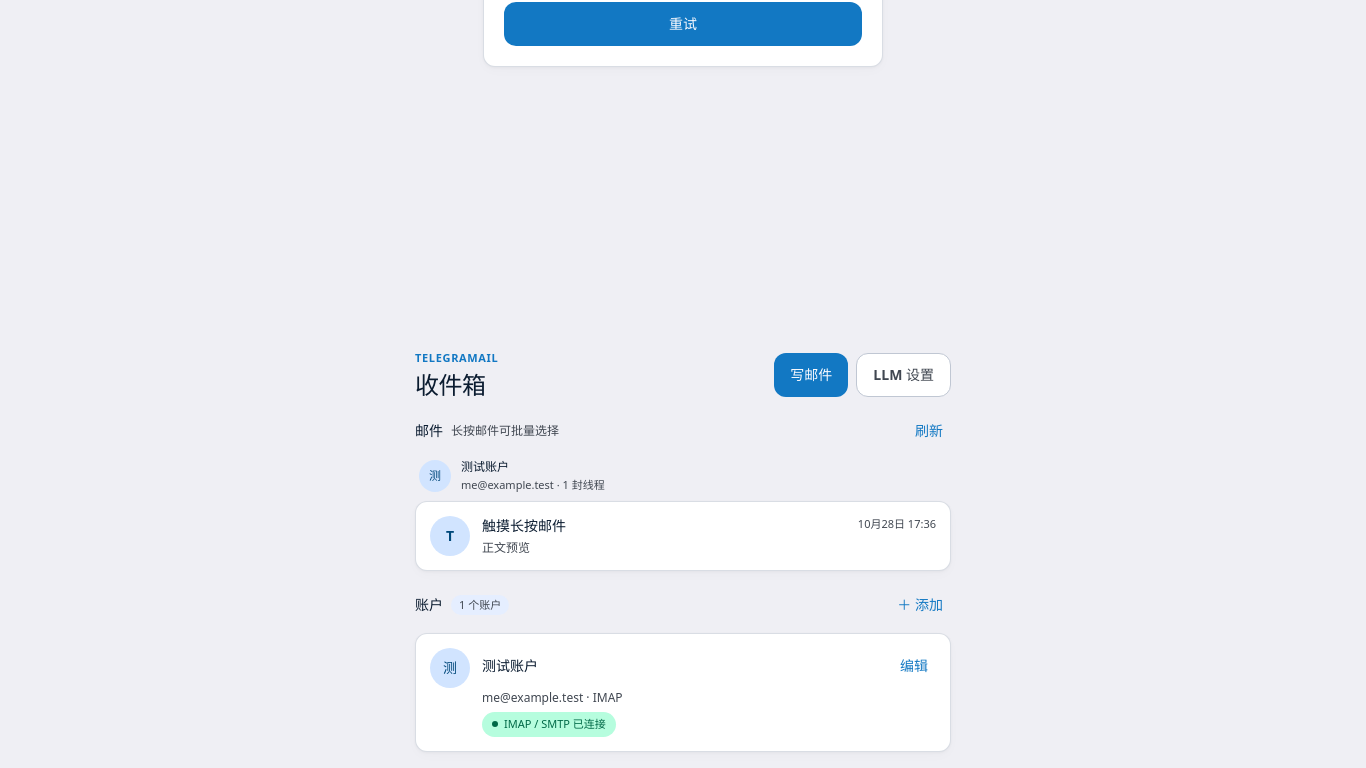
Test: Mini App accessibility and destructive action safeguards › enters selection mode from a touch long press
This screenshot has width=1366, height=768.
(page scrolled)
Press the mouse on the button "触摸长按邮件": (450, 536) [416,502,950,570]
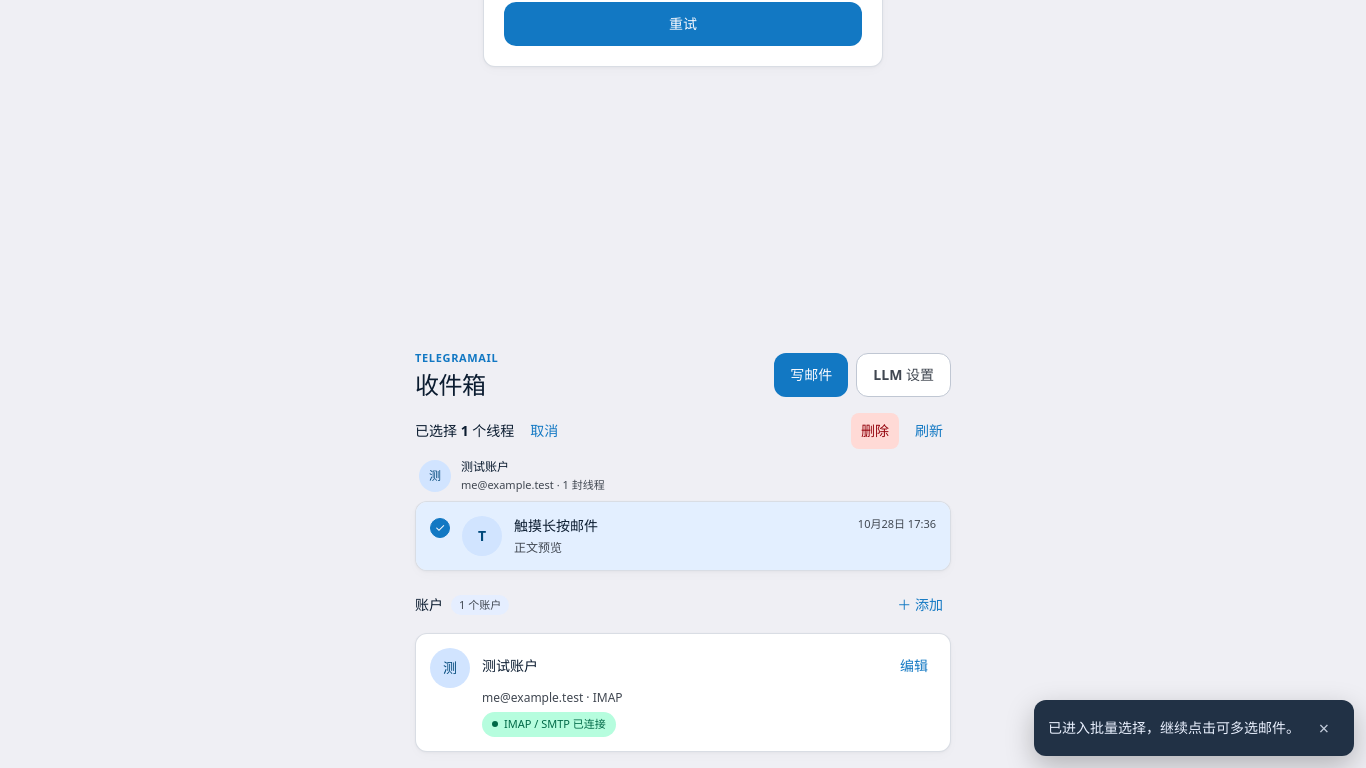
Expected: the text "已选择 1 个线程" is shown, [415,420,514,440]
Expected: the button "删除" is shown, [851,412,899,448]
